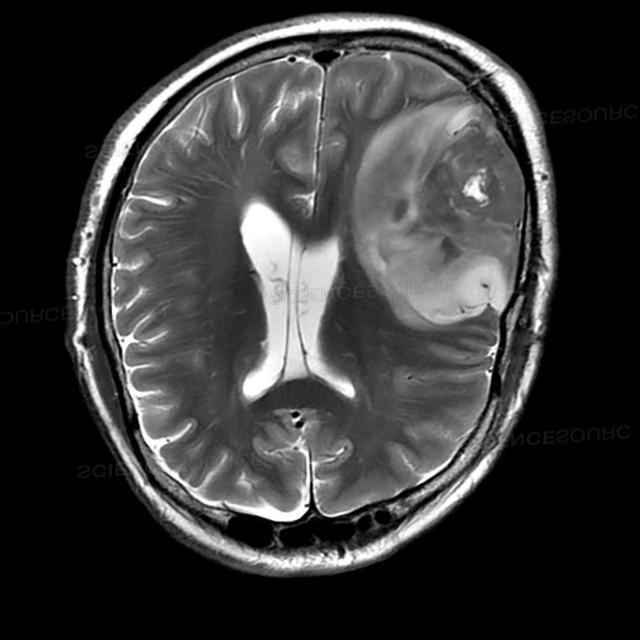Tumor: (352, 102, 527, 333)
